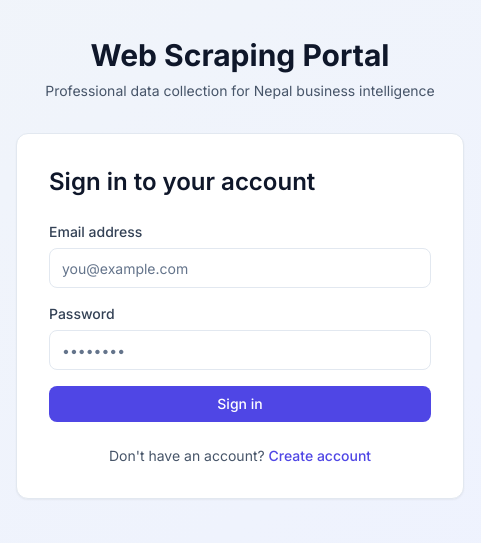
Test case: Login Flow Integration › validates empty email field
The width and height of the screenshot is (481, 543).
Note: Try to submit with empty fields
Click the button "Sign in" at (240, 404), box [49, 386, 431, 422]
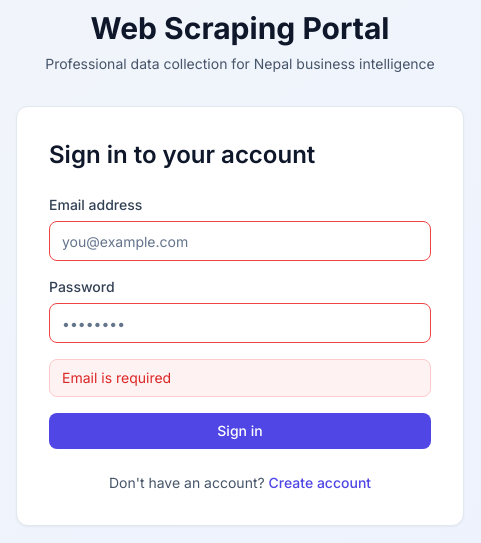
expect the text "Email is required" is shown: met, box [49, 359, 431, 397]
